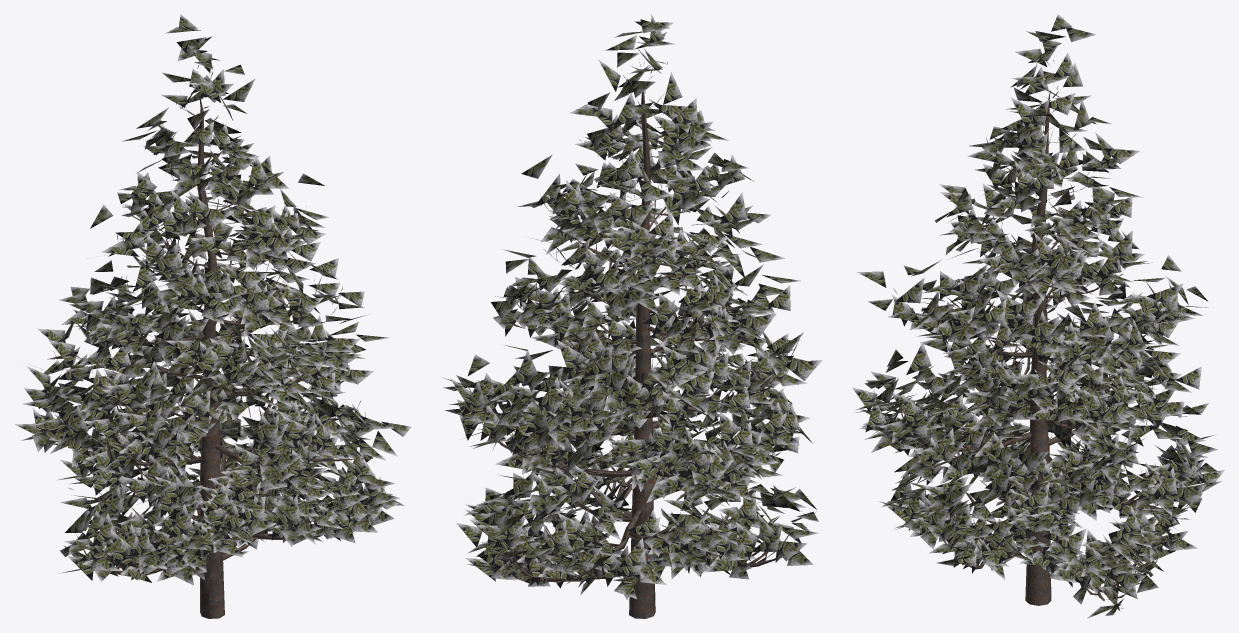
File: pino1.glb
The picture shows the model from 3 angles, left to right: view 1: azimuth 30°, elevation 25°; view 2: azimuth 150°, elevation 25°; view 3: azimuth 270°, elevation 25°; orthographic projection. The views are drawn at different scales.
Visible parts, largest first — view 1: hojas, tronco; view 2: hojas, tronco; view 3: hojas, tronco.
Boxes of the visible parts, left/top/right/bottom form: hojas: left=14, top=14, right=411, bottom=585; tronco: left=44, top=65, right=372, bottom=618; hojas: left=442, top=14, right=822, bottom=599; tronco: left=477, top=47, right=799, bottom=618; hojas: left=852, top=14, right=1224, bottom=618; tronco: left=878, top=60, right=1198, bottom=605.
Bounding box in the file's own units: 2.78 × 4.77 × 2.84.
2 materials, 2 textured.
